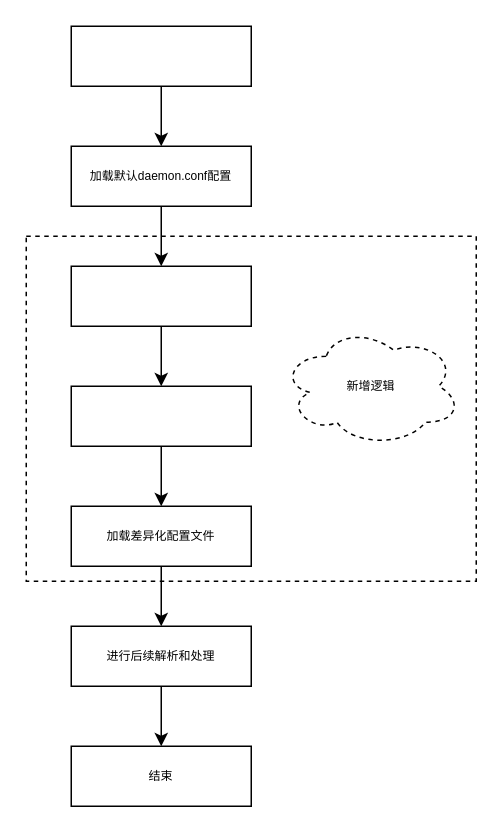
Some shapes in this 503 by 833 pixel diagram are drawn without their labels. Each missing label, with the centre of its shape:
"开始" belongs at point 160,55.
"读取厂商名称" belongs at point 160,415.
"读取声卡名称" belongs at point 160,295.
